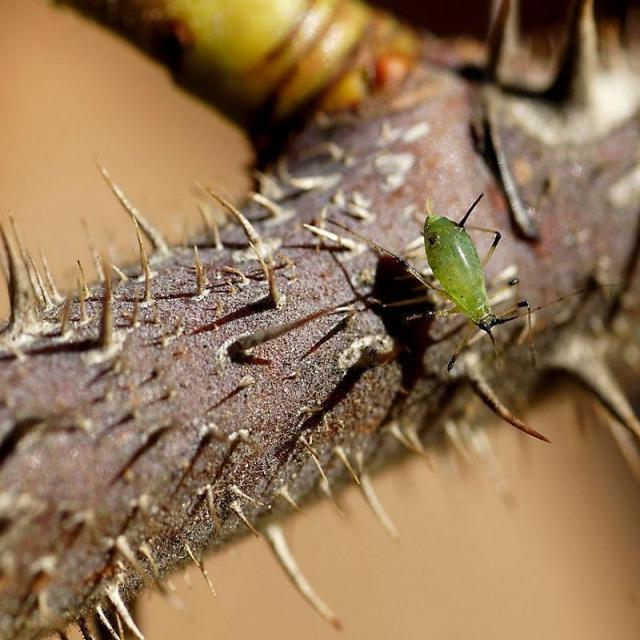aphid: (406, 178, 514, 364)
